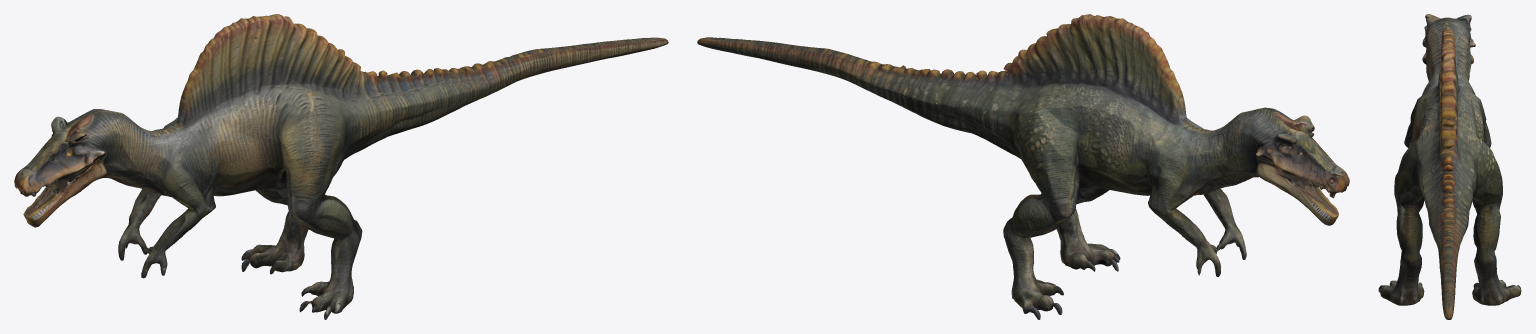
File: spinosaurus.glb
The picture shows the model from 3 angles, left to right: view 1: azimuth 30°, elevation 25°; view 2: azimuth 150°, elevation 25°; view 3: azimuth 270°, elevation 25°; orthographic projection. The views are drawn at different scales.
Parts seen in each view (by area): view 1: Object_4; view 2: Object_4; view 3: Object_4.
Boxes of the visible parts, left/top/right/bottom form: Object_4: left=14, top=14, right=668, bottom=319; Object_4: left=697, top=14, right=1349, bottom=319; Object_4: left=1378, top=14, right=1521, bottom=319.
Size of the model in its own units: 2 by 0.8289 by 0.4427.
Materials: 1 (1 with a texture image).
